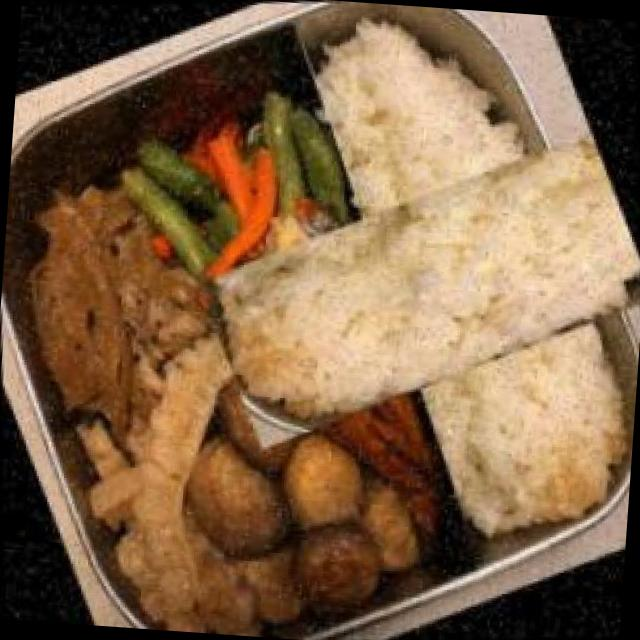rice: (212, 16, 640, 527)
